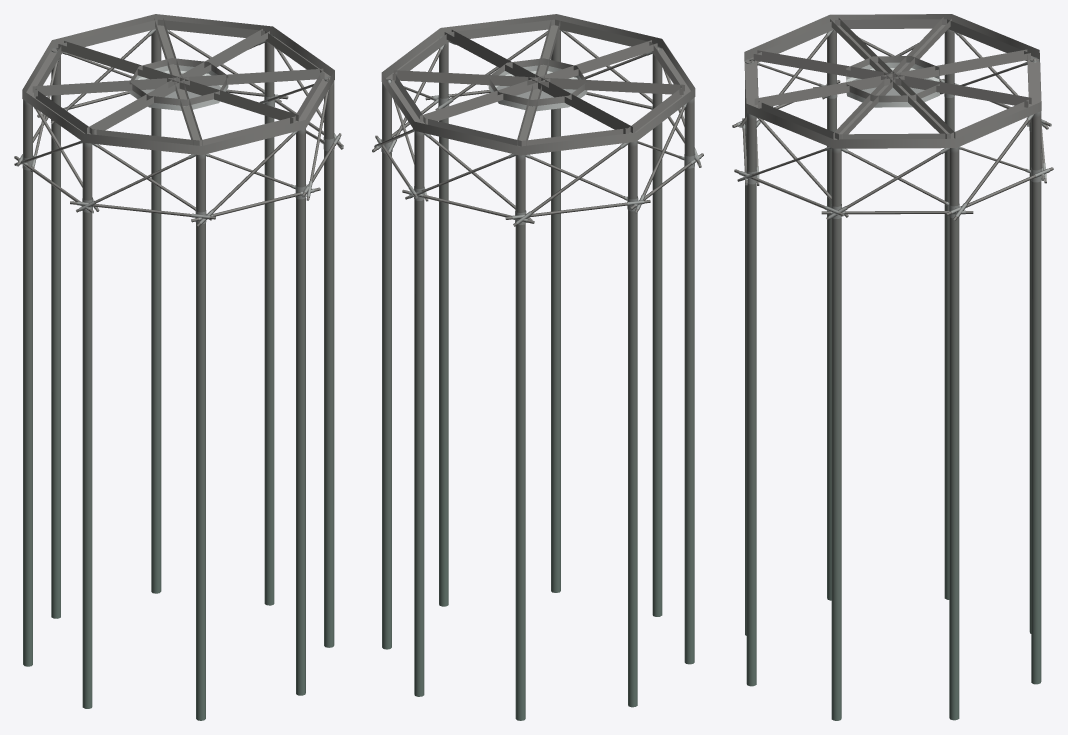
The picture shows the model from 3 angles, left to right: view 1: azimuth 30°, elevation 25°; view 2: azimuth 150°, elevation 25°; view 3: azimuth 270°, elevation 25°; orthographic projection.
Visible parts, largest first — view 1: G:\FFXIV-MapTools\exports\s1f3\bg\ffxiv\sea_s1\fld\s1f3\bgpa (×3); view 2: G:\FFXIV-MapTools\exports\s1f3\bg\ffxiv\sea_s1\fld\s1f3\bgpa (×3); view 3: G:\FFXIV-MapTools\exports\s1f3\bg\ffxiv\sea_s1\fld\s1f3\bgpa (×3).
Boxes of the visible parts, box(x1,y1,x2,y2) form: G:\FFXIV-MapTools\exports\s1f3\bg\ffxiv\sea_s1\fld\s1f3\bgpa (×3): box(14, 14, 343, 720); G:\FFXIV-MapTools\exports\s1f3\bg\ffxiv\sea_s1\fld\s1f3\bgpa (×3): box(372, 14, 703, 720); G:\FFXIV-MapTools\exports\s1f3\bg\ffxiv\sea_s1\fld\s1f3\bgpa (×3): box(732, 14, 1053, 720).
Bounding box in the file's own units: 15.37 × 30.78 × 15.37.
